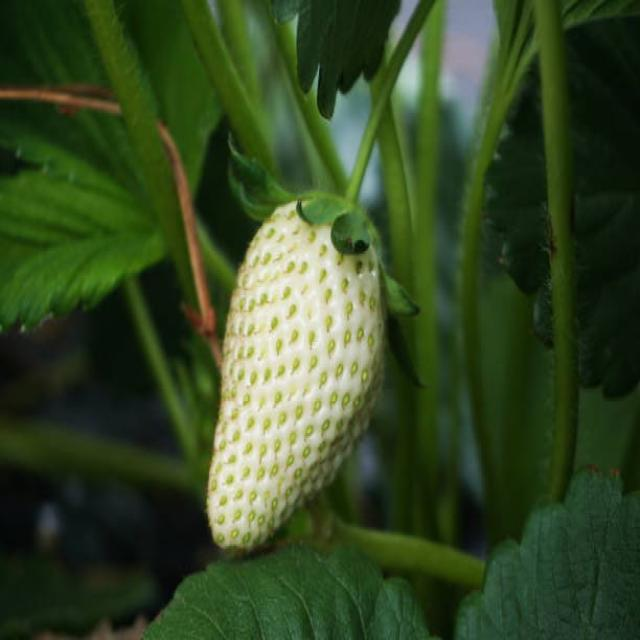Healthy Fruit: (207, 201, 386, 551)
